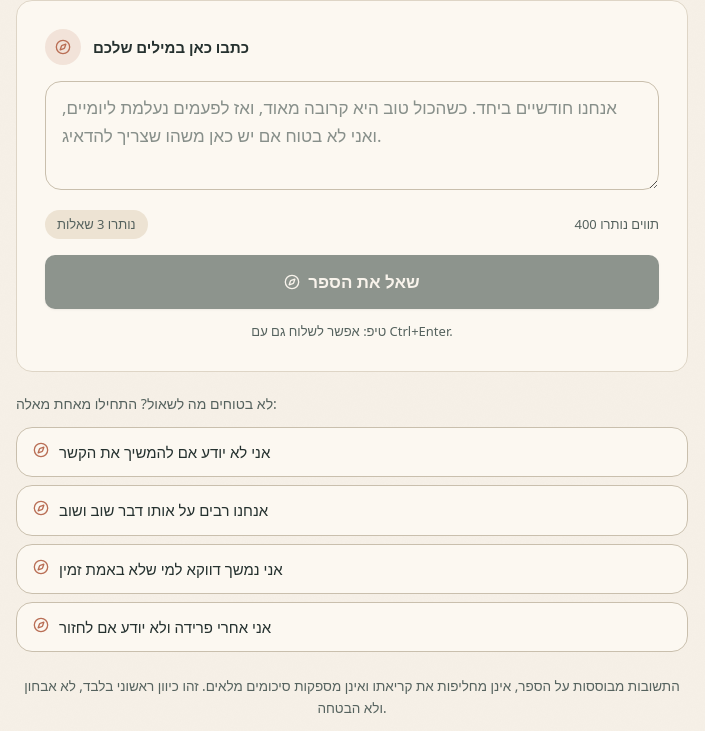
Test: CompassConsole, attention line (focus) › does NOT render it on a refusal (e.g. off-topic / book-protection block)
Replace the text in the text box labelled "כתבו כאן במילים שלכם" with "מה קורה כשהיא מתרחקת לפעמים?": (352, 135) x1=45 y1=81 x2=659 y2=190
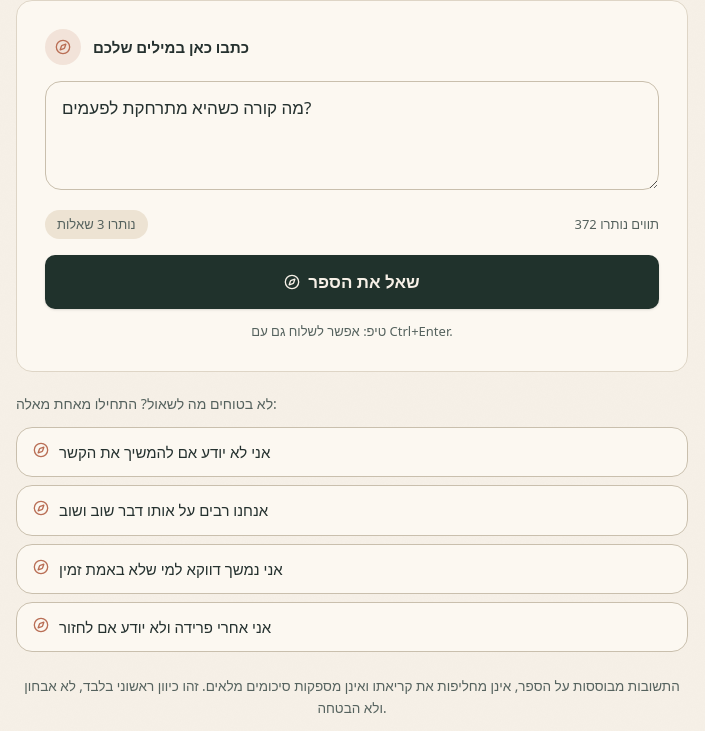
Click the button "שאל את הספר": (352, 282) x1=45 y1=255 x2=659 y2=309
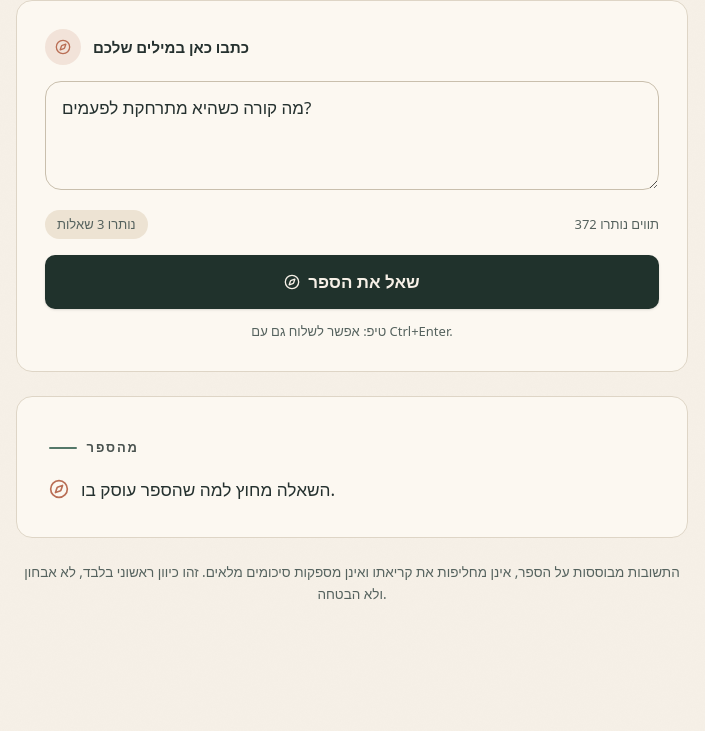
Expected: the text "השאלה מחוץ למה שהספר עוסק בו." is shown, x1=81 y1=474 x2=335 y2=505
